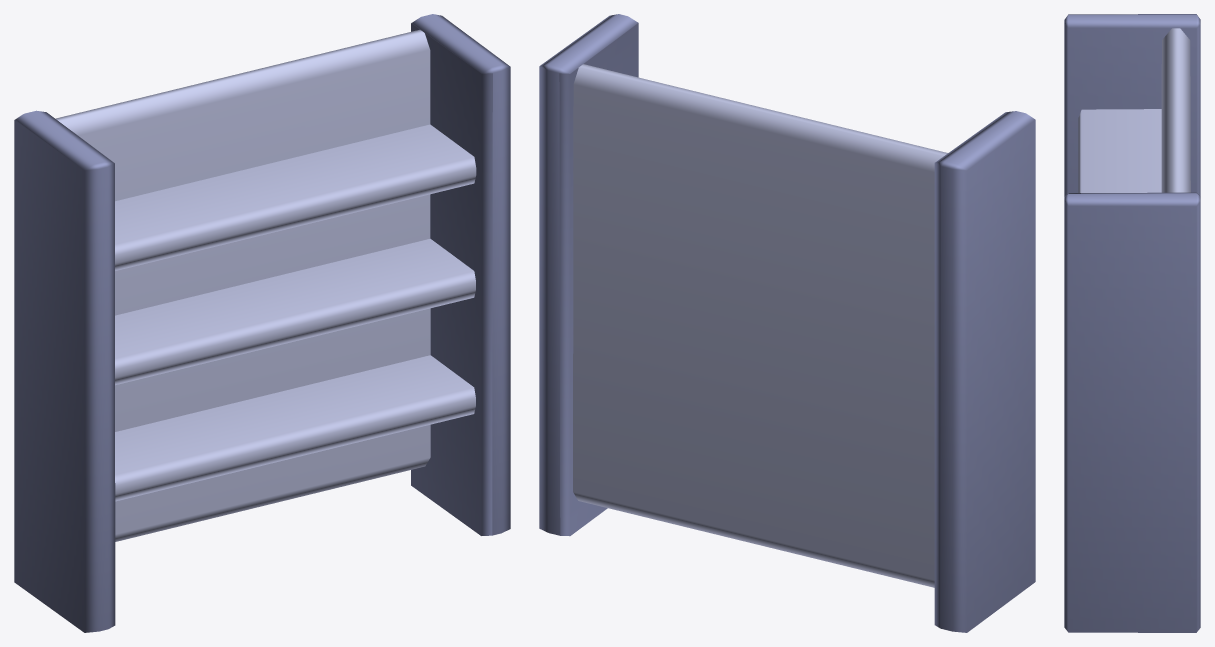
The model's file is Shelf_05.fbx.
3 renders of one model, left to right at view 1: azimuth 30°, elevation 25°; view 2: azimuth 150°, elevation 25°; view 3: azimuth 270°, elevation 25°, orthographic. The views are drawn at different scales.
Parts seen in each view (by area): view 1: Shelf_05; view 2: Shelf_05; view 3: Shelf_05.
Boxes of the visible parts, <box> form: Shelf_05: <box>14,14,510,632</box>; Shelf_05: <box>539,14,1035,632</box>; Shelf_05: <box>1064,14,1200,632</box>.
Bounding box in the file's own units: 177 × 184 × 52.83.
